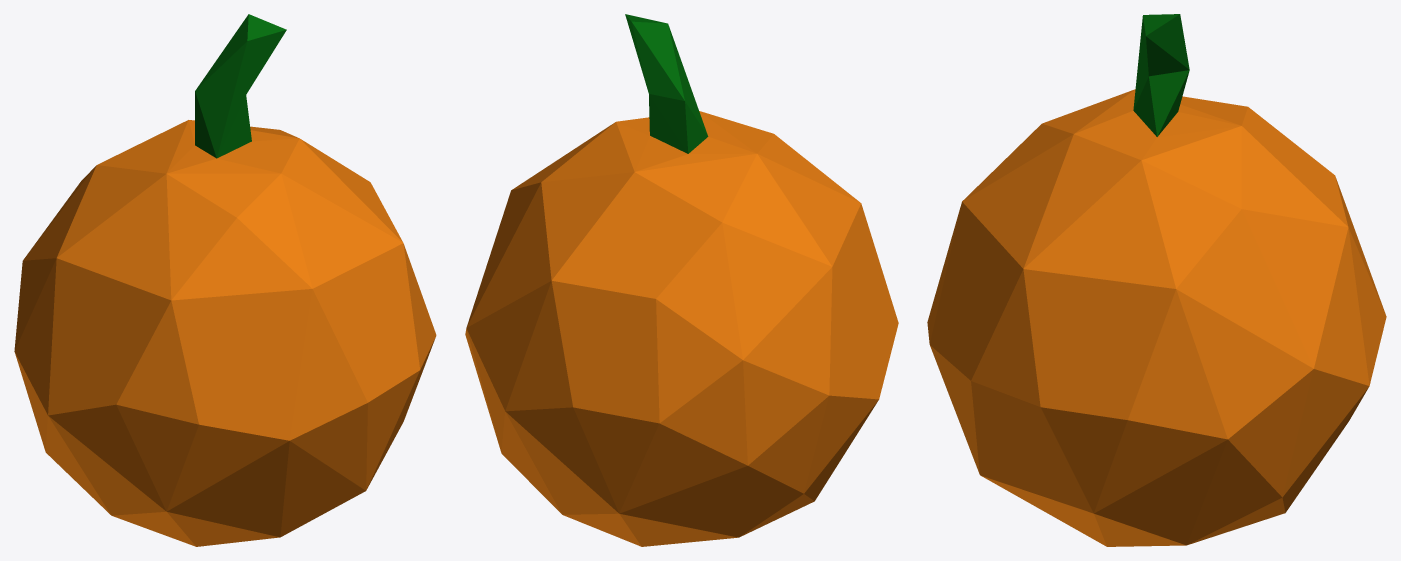
The model's file is orange.fbx.
The picture shows the model from 3 angles, left to right: view 1: azimuth 30°, elevation 25°; view 2: azimuth 150°, elevation 25°; view 3: azimuth 270°, elevation 25°; orthographic projection. The views are drawn at different scales.
Visible parts, largest first — view 1: Sphere.001; view 2: Sphere.001; view 3: Sphere.001.
Boxes of the visible parts, x1,y1,x2,y2 form: Sphere.001: (14,14,436,546); Sphere.001: (465,14,898,546); Sphere.001: (927,14,1386,546).
Bounding box in the file's own units: 64.62 × 82.62 × 64.5.
